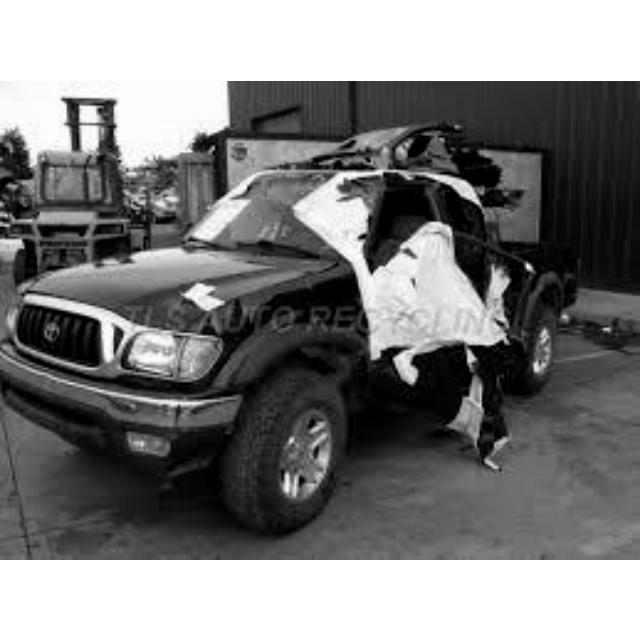fender-dent: (233, 275, 378, 349)
